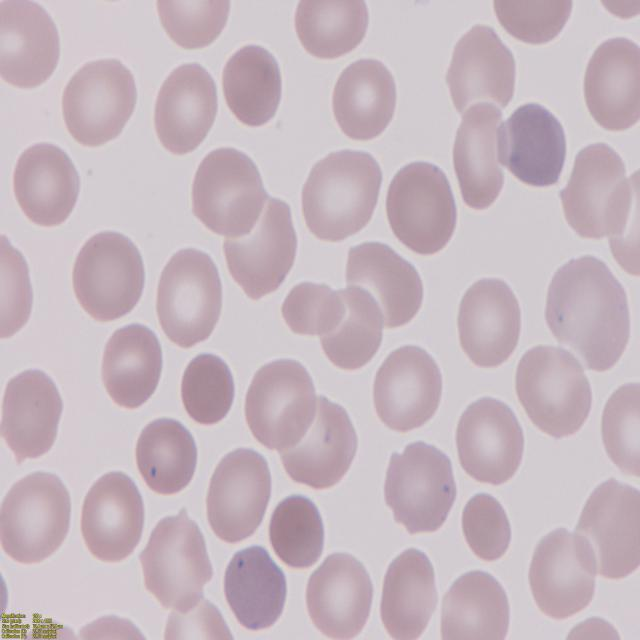RBC: (542, 252, 634, 370), (298, 144, 384, 246), (141, 506, 217, 614), (514, 344, 597, 442), (188, 142, 272, 238), (383, 436, 462, 538), (562, 136, 636, 244), (526, 524, 601, 626), (382, 160, 460, 258), (240, 353, 318, 451), (60, 59, 142, 152), (367, 340, 444, 438), (153, 248, 225, 352), (0, 470, 78, 566), (72, 230, 151, 323), (203, 446, 273, 550), (148, 61, 222, 158), (446, 19, 520, 114), (453, 393, 526, 489), (76, 472, 150, 566), (578, 474, 640, 584), (456, 276, 524, 376), (1, 362, 68, 462), (454, 97, 511, 214), (220, 542, 292, 634), (500, 97, 570, 191), (9, 138, 81, 228), (330, 56, 400, 146), (303, 552, 374, 640), (96, 320, 167, 408), (378, 544, 442, 640), (131, 412, 201, 498), (582, 32, 640, 134), (0, 0, 64, 91), (438, 566, 516, 640), (290, 0, 374, 68), (487, 0, 582, 48), (598, 377, 640, 482), (152, 0, 234, 50), (0, 228, 35, 344), (161, 598, 244, 640), (582, 0, 640, 25)
Spherocyte: (218, 41, 291, 128), (267, 487, 332, 573), (179, 348, 241, 428), (460, 486, 516, 566)
